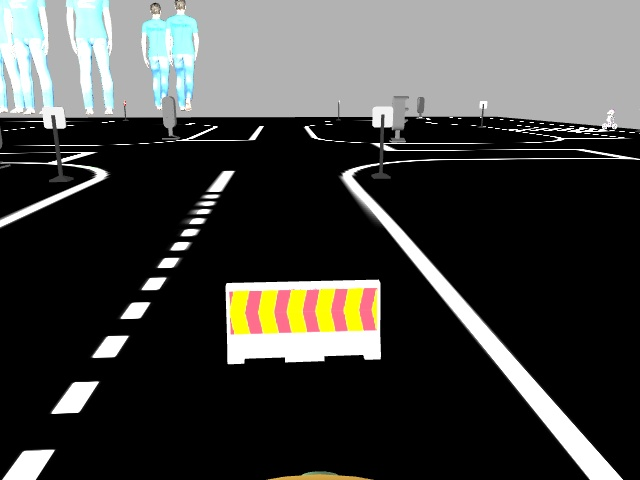ClosedRoadStand: (225, 282, 378, 358)
